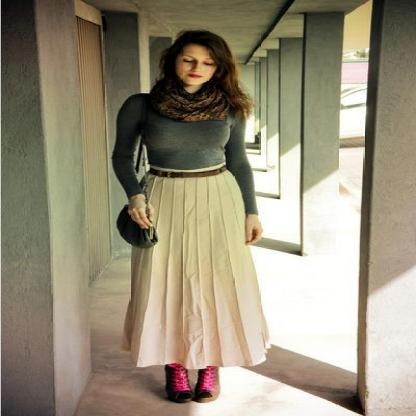bag: (117, 208, 157, 248)
shirt: (112, 93, 257, 224)
shoe: (162, 358, 219, 403)
skirt: (114, 161, 272, 369)
